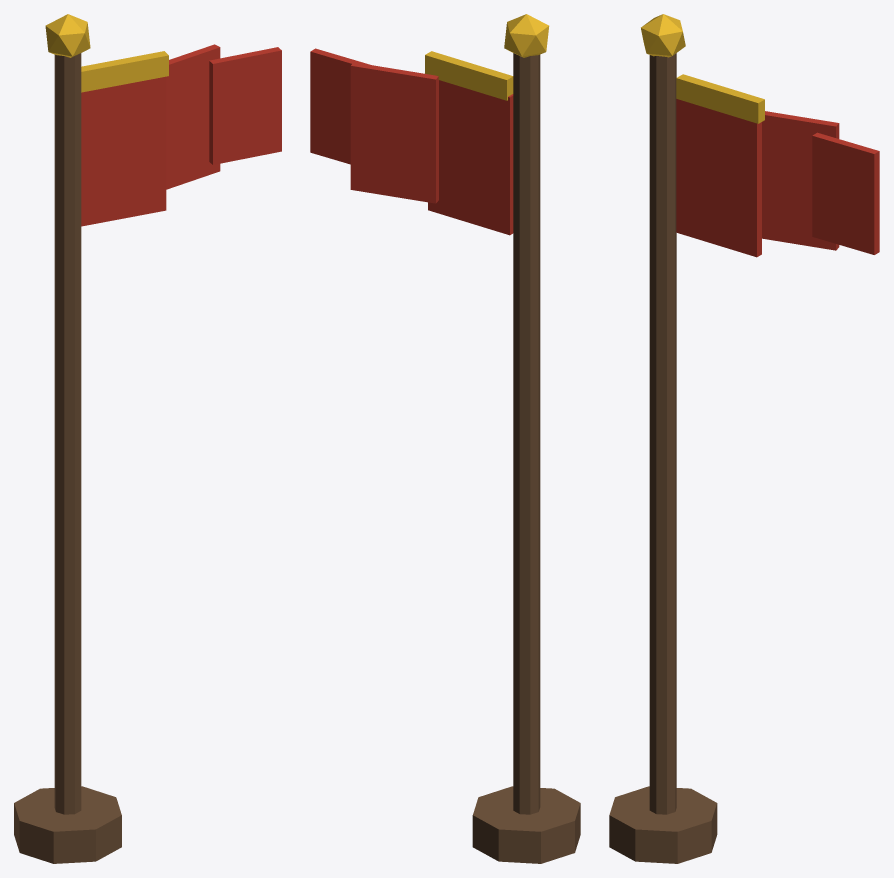
File: endpoint_flag.glb
3 renders of one model, left to right at view 1: azimuth 30°, elevation 25°; view 2: azimuth 150°, elevation 25°; view 3: azimuth 330°, elevation 25°, orthographic.
Parts seen in each view (by area): view 1: flag_pole, flag_cloth_0, flag_cloth_2, flag_base, flag_cloth_1, flag_trim_strip, flag_ball; view 2: flag_pole, flag_cloth_1, flag_cloth_0, flag_base, flag_cloth_2, flag_trim_strip, flag_ball; view 3: flag_pole, flag_cloth_0, flag_cloth_2, flag_cloth_1, flag_base, flag_trim_strip, flag_ball.
Part boxes in pixels (left/top/right/bottom): flag_pole: left=54, top=53, right=81, bottom=814; flag_cloth_0: left=81, top=76, right=166, bottom=226; flag_cloth_2: left=209, top=47, right=281, bottom=164; flag_base: left=14, top=786, right=121, bottom=863; flag_cloth_1: left=166, top=44, right=220, bottom=189; flag_trim_strip: left=81, top=51, right=168, bottom=92; flag_ball: left=45, top=14, right=90, bottom=57; flag_pole: left=513, top=53, right=540, bottom=814; flag_cloth_1: left=350, top=62, right=438, bottom=203; flag_cloth_0: left=428, top=80, right=513, bottom=235; flag_base: left=472, top=786, right=580, bottom=863; flag_cloth_2: left=310, top=48, right=370, bottom=164; flag_trim_strip: left=425, top=51, right=513, bottom=100; flag_ball: left=504, top=14, right=549, bottom=57; flag_pole: left=649, top=53, right=676, bottom=814; flag_cloth_0: left=676, top=99, right=761, bottom=257; flag_cloth_2: left=812, top=132, right=879, bottom=254; flag_cloth_1: left=762, top=111, right=839, bottom=250; flag_base: left=609, top=786, right=717, bottom=863; flag_trim_strip: left=676, top=74, right=764, bottom=123; flag_ball: left=641, top=14, right=685, bottom=57.
Bounding box in the file's own units: 1.19 × 3.6 × 0.44.
